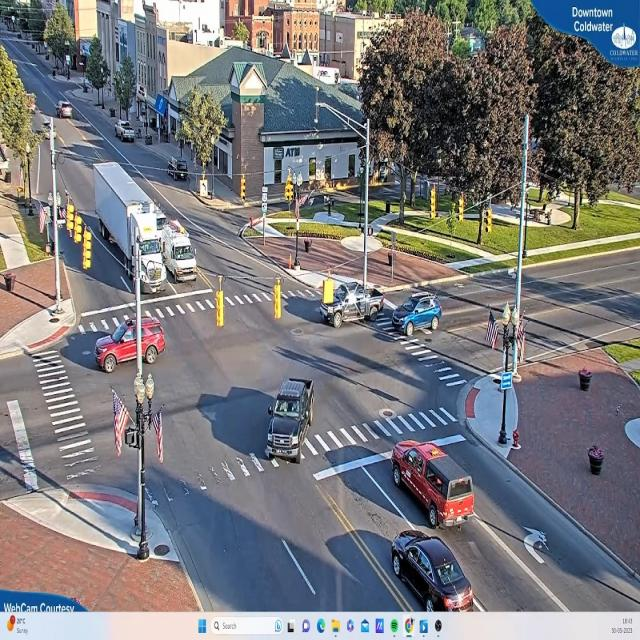car: (392, 438, 477, 530), (390, 530, 481, 612), (267, 383, 313, 466), (96, 323, 166, 372), (386, 294, 443, 337), (117, 124, 136, 143)
truck: (92, 162, 166, 291)
